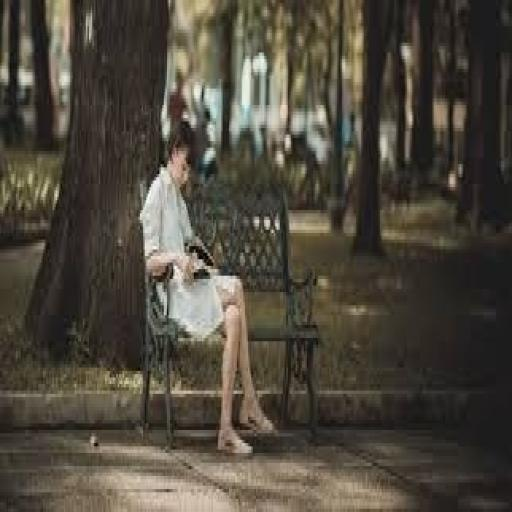sitting: (137, 115, 278, 459)
